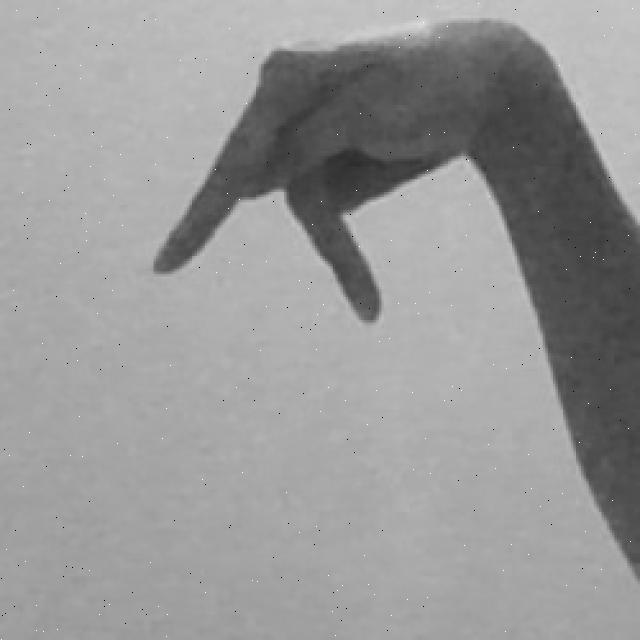P: (146, 8, 640, 590)
